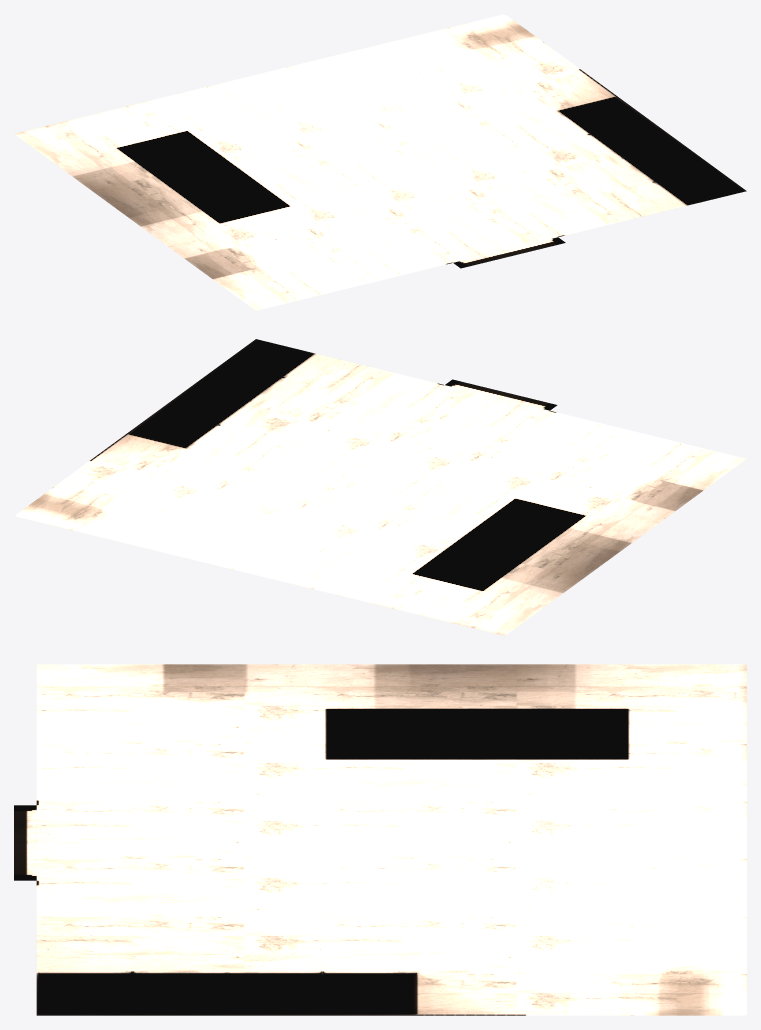
The model's file is Floor_larch_creme.glb.
3 views of the same model, one above another, from view 1: azimuth 30°, elevation 25°; view 2: azimuth 150°, elevation 25°; view 3: azimuth 270°, elevation 25° (orthographic). The views are drawn at different scales.
Parts seen in each view (by area): view 1: Floor_larch_creme; view 2: Floor_larch_creme; view 3: Floor_larch_creme.
Part boxes in pixels (left/top/right/bottom): Floor_larch_creme: left=14, top=14, right=746, bottom=310; Floor_larch_creme: left=14, top=339, right=746, bottom=635; Floor_larch_creme: left=14, top=664, right=746, bottom=1015.
Bounding box in the file's own units: 3.67 × 5.31e-07 × 3.23.
1 material, 1 textured.
